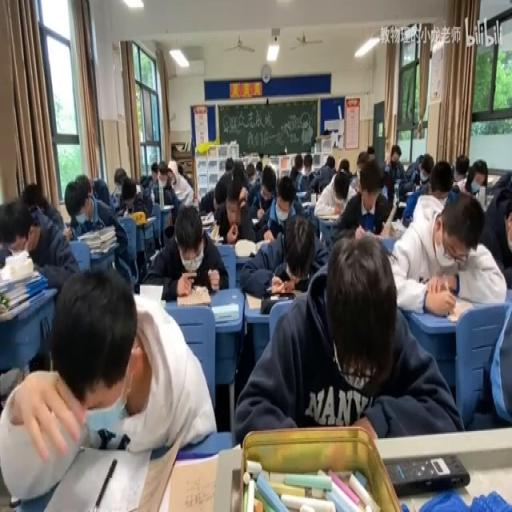calculator: (163, 450, 221, 510), (442, 294, 474, 323), (176, 283, 210, 306), (78, 224, 114, 242), (212, 300, 238, 322), (138, 282, 163, 302), (88, 240, 116, 256), (234, 236, 256, 256), (378, 234, 396, 254), (244, 293, 262, 309), (387, 222, 404, 237), (316, 209, 341, 219), (254, 238, 268, 253), (476, 183, 485, 205), (200, 212, 214, 225), (210, 223, 219, 242), (484, 192, 494, 208), (175, 189, 188, 201), (296, 189, 310, 199), (149, 248, 158, 263), (142, 216, 156, 225), (301, 199, 311, 209), (250, 214, 260, 224), (160, 204, 173, 210), (405, 190, 414, 198), (310, 192, 316, 202)
paper: (5, 263, 213, 504), (235, 235, 457, 442), (387, 188, 504, 311), (0, 189, 78, 295), (144, 203, 226, 300), (67, 175, 131, 282), (466, 283, 511, 430), (332, 158, 390, 239), (251, 168, 293, 237), (398, 155, 437, 223), (146, 161, 180, 219), (452, 157, 487, 199), (110, 166, 140, 210), (198, 174, 224, 216), (310, 154, 336, 194), (383, 142, 405, 184), (429, 158, 453, 195), (486, 168, 511, 198), (22, 180, 43, 214), (230, 162, 248, 201), (91, 174, 111, 209), (329, 228, 355, 248), (288, 154, 302, 188), (354, 151, 368, 179), (334, 179, 349, 202), (178, 164, 192, 188), (378, 205, 391, 226), (262, 178, 274, 198), (306, 130, 316, 154), (337, 158, 349, 175), (245, 160, 254, 180), (302, 154, 312, 172), (254, 159, 262, 181), (86, 176, 94, 196), (138, 175, 150, 188), (224, 155, 234, 169), (167, 171, 176, 186), (366, 144, 376, 156), (150, 169, 157, 181)
person: (386, 452, 470, 494), (260, 293, 295, 313)
